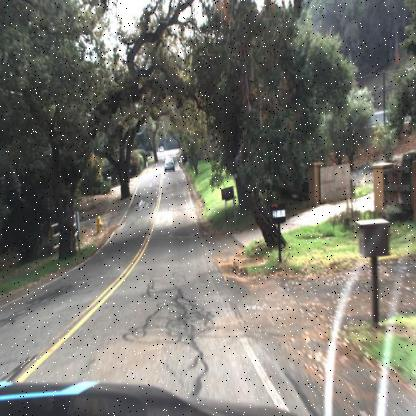car: (161, 151, 178, 172)
